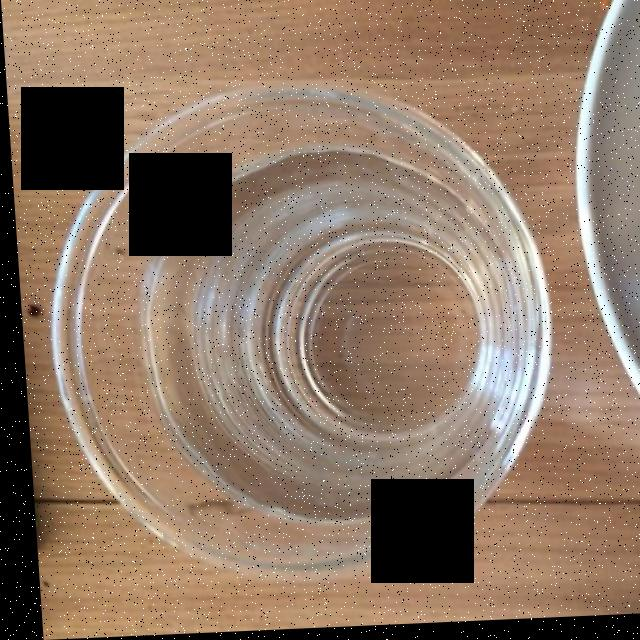water: (133, 172, 521, 511)
